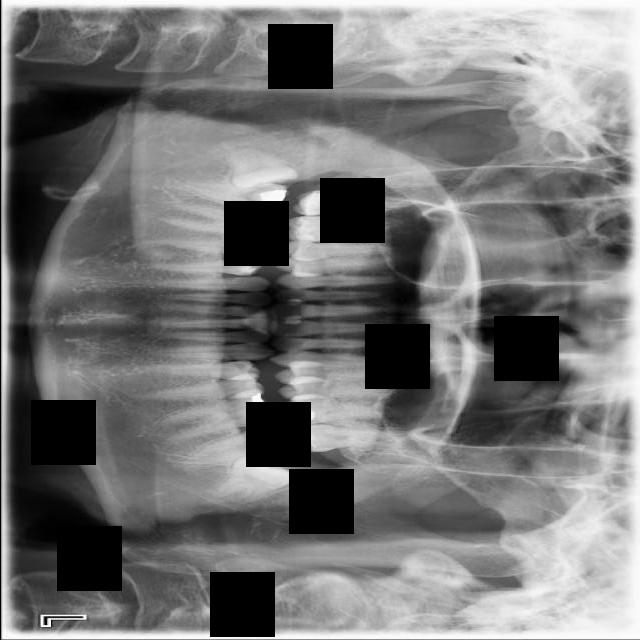52: (220, 384, 276, 437), (244, 417, 290, 467), (246, 176, 290, 219), (235, 206, 278, 248), (280, 392, 330, 426), (284, 213, 330, 245), (292, 190, 336, 215), (266, 301, 310, 322), (267, 319, 312, 338), (226, 256, 263, 277), (273, 288, 310, 303)
73: (50, 592, 68, 602)
BioHorizons Implant: (288, 423, 416, 456)
Biomet 3i Implant: (201, 438, 298, 518)
Blue Sky Bio Implant: (175, 420, 290, 472)
Caries: (290, 181, 409, 218)
Implant: (180, 177, 289, 213)
Keystone Dental Implant: (226, 141, 299, 191)
